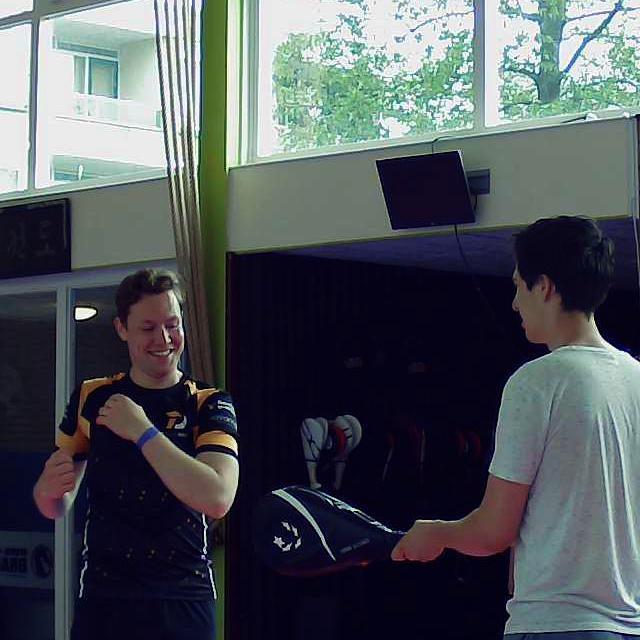paddle: (247, 485, 407, 579)
